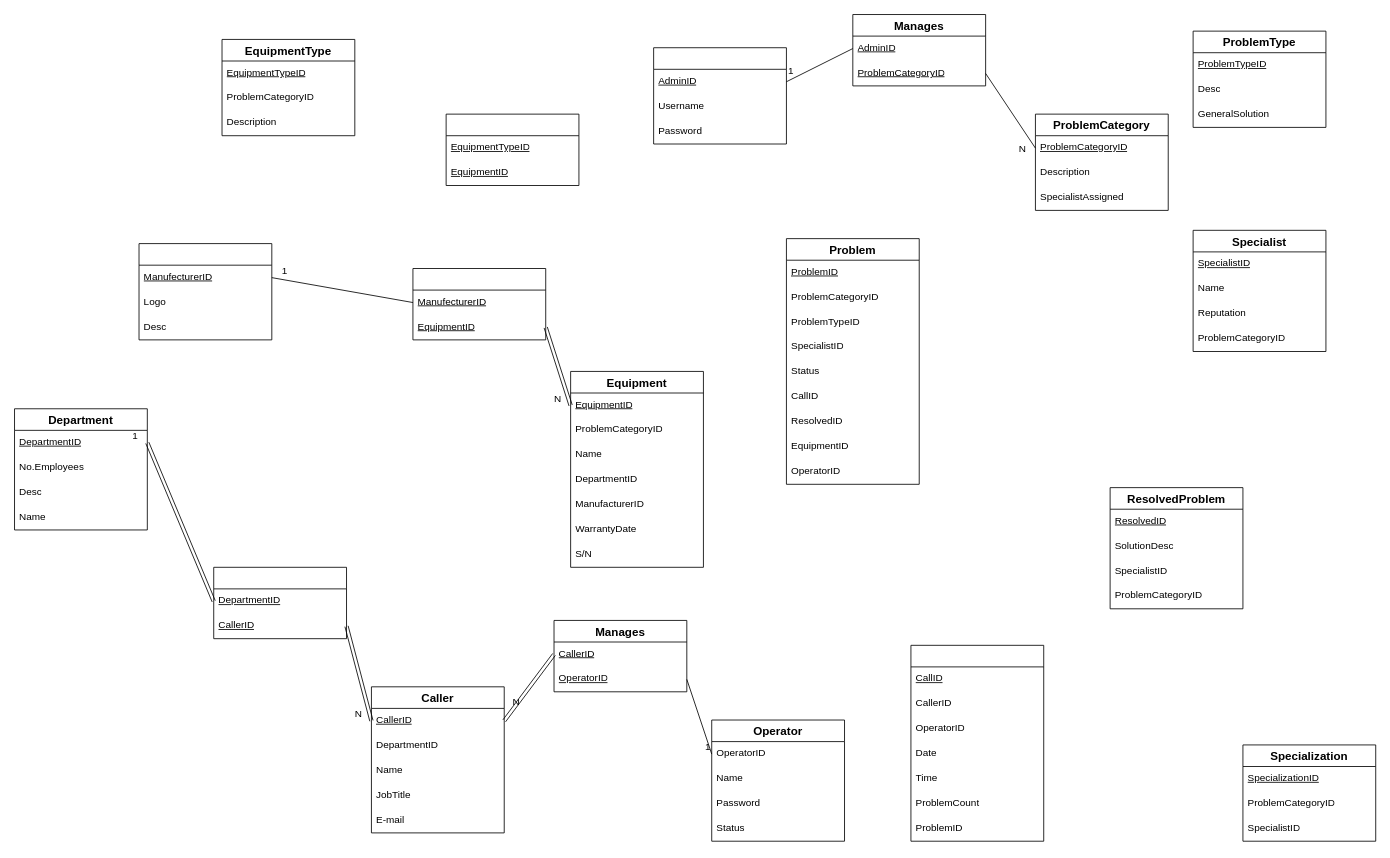
This 1390x858 diagram has some shape labels left out. Here are the shapes that lost their labels. From the top down, the box of each, then its label:
(653, 47, 786, 144): Administrator
(445, 113, 579, 186): Has
(138, 243, 272, 340): Manufacturer
(412, 268, 546, 340): Manufactures
(213, 566, 347, 639): Belongs
(910, 644, 1044, 841): CallLog
